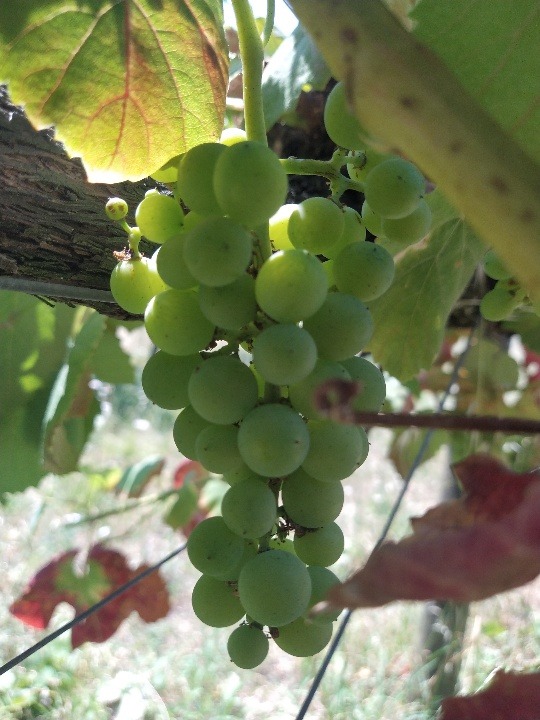grape: (102, 82, 431, 674)
